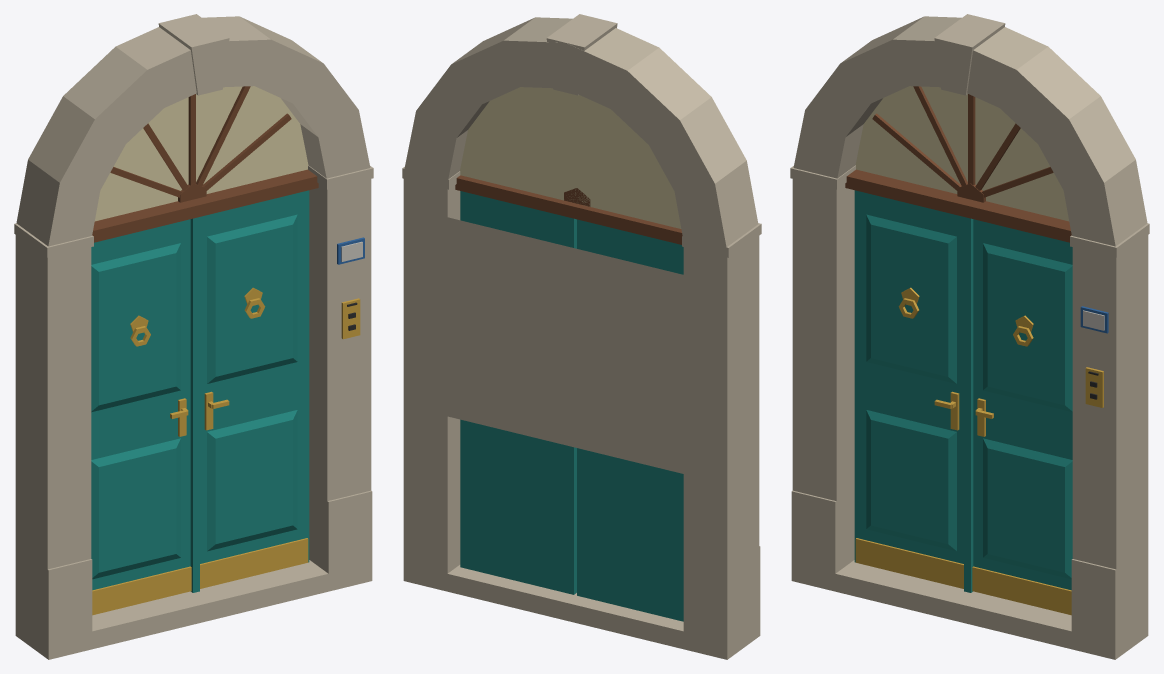
File: kapi_ahsap.glb
3 views of the same model, side by side, from view 1: azimuth 30°, elevation 25°; view 2: azimuth 150°, elevation 25°; view 3: azimuth 330°, elevation 25° (orthographic).
Visible parts, largest first — view 1: kapi_ahsap; view 2: kapi_ahsap; view 3: kapi_ahsap.
Boxes of the visible parts, left/top/right/bottom form: kapi_ahsap: left=14, top=14, right=373, bottom=659; kapi_ahsap: left=402, top=14, right=761, bottom=659; kapi_ahsap: left=790, top=14, right=1149, bottom=659.
Size of the model in its own units: 1.72 by 2.9 by 0.311.
